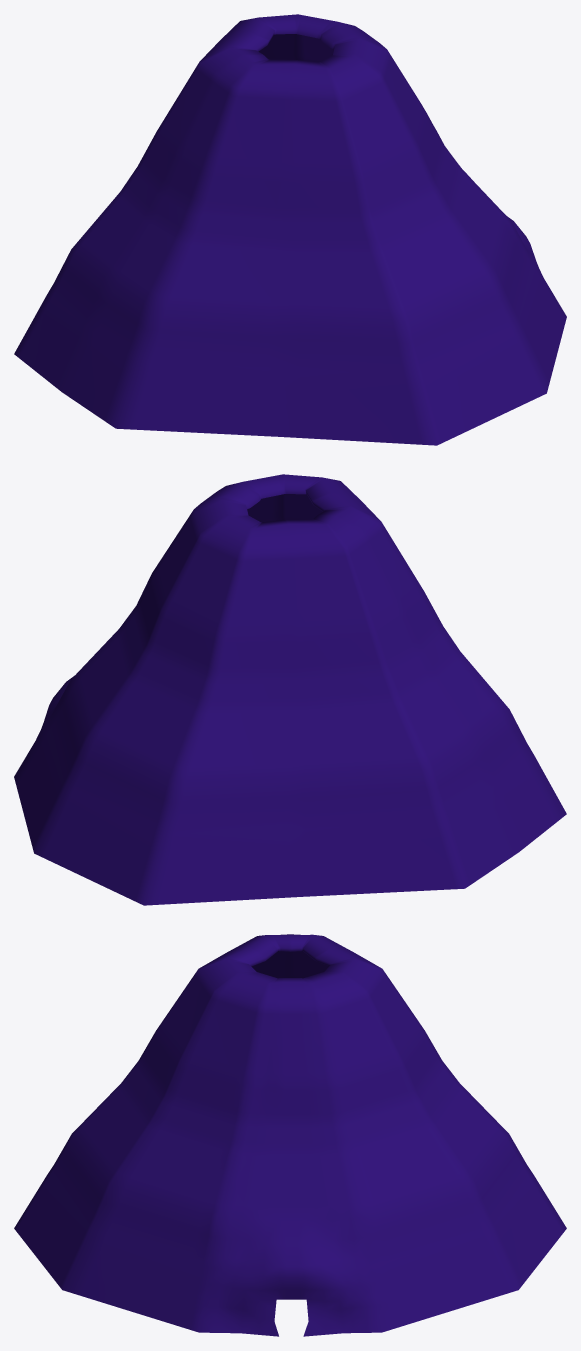
File: matidVolcano.fbx
3 views of the same model, one above another, from view 1: azimuth 30°, elevation 25°; view 2: azimuth 150°, elevation 25°; view 3: azimuth 270°, elevation 25° (orthographic). The views are drawn at different scales.
Parts seen in each view (by area): view 1: ExteriorValcano; view 2: ExteriorValcano; view 3: ExteriorValcano.
Part boxes in pixels (x1,y1,x2,y2): ExteriorValcano: (14,14,566,445); ExteriorValcano: (14,474,566,905); ExteriorValcano: (14,934,566,1336).
Size of the model in its own units: 180 by 108 by 199.
